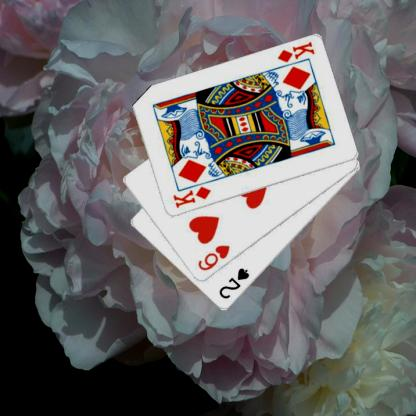2S: (216, 265, 251, 301)
6H: (195, 243, 231, 272)
KD: (170, 184, 212, 209), (275, 39, 315, 64)
